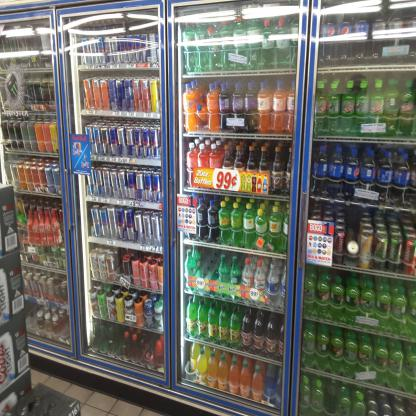Void: (202, 250, 218, 280), (344, 209, 360, 238)
